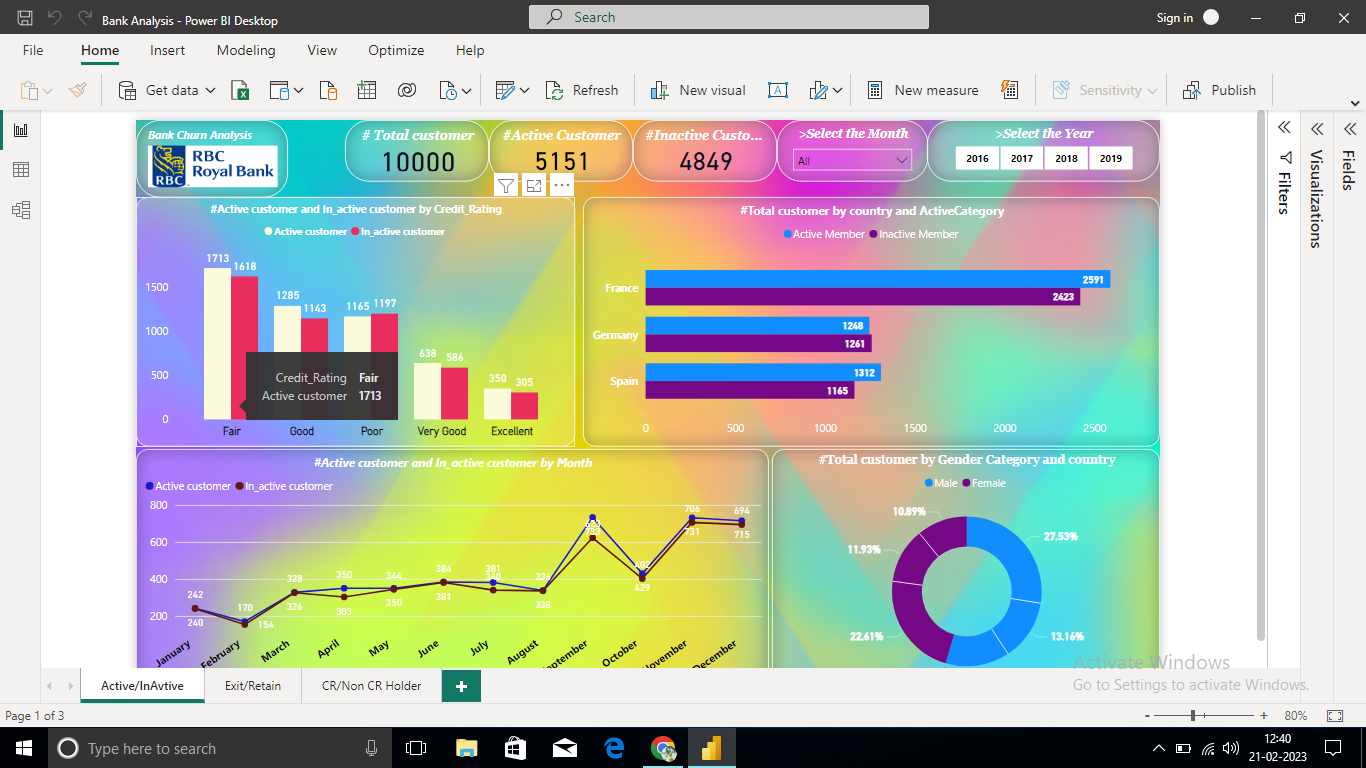

What the dashboard file says about the page in this screenshot:
{"tool":"powerbi","page":{"name":"Active/InAvtive","canvas":[1280,720],"ordinal":0},"visuals":[{"type":"card","title":"#Inactive Customer","fields":{"Values":["calculation table.In_active customer"]},"box":[620.8,0,180,76.5],"z":0},{"type":"card","title":"#Active Customer","fields":{"Values":["calculation table.Active customer"]},"box":[440.8,0,180,76.5],"z":1000},{"type":"card","title":"# Total customer","fields":{"Values":["calculation table.Total customer"]},"box":[260.8,0,180,76.5],"z":2000},{"type":"image","title":"Bank Churn Analysis","box":[0,0,190,97],"z":3000},{"type":"slicer","title":">Select the Month","fields":{"Values":["Datemaster.Date.Variation.Date Hierarchy.Month"]},"box":[800.8,0,188.5,76.5],"z":4000},{"type":"clusteredColumnChart","title":"#Active customer and In_active customer by Credit_Rating","fields":{"Category":["Bank_Churn.Credit_Rating"],"Y":["calculation table.Active customer","calculation table.In_active customer"]},"box":[0,96.4,548.5,311.8],"z":5000},{"type":"lineChart","title":"#Active customer and In_active customer by Month","fields":{"Category":["Datemaster.Date.Variation.Date Hierarchy.Month"],"Y":["calculation table.Active customer","calculation table.In_active customer"]},"box":[0,411,790.9,309],"z":6000},{"type":"clusteredBarChart","title":"#Total customer by country and ActiveCategory","fields":{"Category":["Geography.GeographyLocation"],"Series":["ActiveCustomer.ActiveCategory"],"Y":["calculation table.Total customer"]},"box":[558.4,96.4,721.4,311.8],"z":7000},{"type":"donutChart","title":"#Total customer by Gender Category and country","fields":{"Category":["Gender.GenderCategory"],"Y":["calculation table.Total customer"],"Series":["Geography.GeographyLocation"]},"box":[795.1,411,484.7,309],"z":8000},{"type":"slicer","title":">Select the Year","fields":{"Values":["Datemaster.Date.Variation.Date Hierarchy.Year"]},"box":[989.3,0,290.6,76.5],"z":9000}]}

Visuals, with their boxes on the page's 1280x720 design canvas (x1, y1, x2, y2). These are canvas units, not pixel positions in the 1366x768 screenshot, which may show the page scaled, cropped or inside an application window:
"#Inactive Customer" card: bbox=[621, 0, 801, 76]
"#Active Customer" card: bbox=[441, 0, 621, 76]
"# Total customer" card: bbox=[261, 0, 441, 76]
"Bank Churn Analysis" image: bbox=[0, 0, 190, 97]
">Select the Month" slicer: bbox=[801, 0, 989, 76]
"#Active customer and In_active customer by Credit_Rating" clusteredColumnChart: bbox=[0, 96, 548, 408]
"#Active customer and In_active customer by Month" lineChart: bbox=[0, 411, 791, 720]
"#Total customer by country and ActiveCategory" clusteredBarChart: bbox=[558, 96, 1280, 408]
"#Total customer by Gender Category and country" donutChart: bbox=[795, 411, 1280, 720]
">Select the Year" slicer: bbox=[989, 0, 1280, 76]
